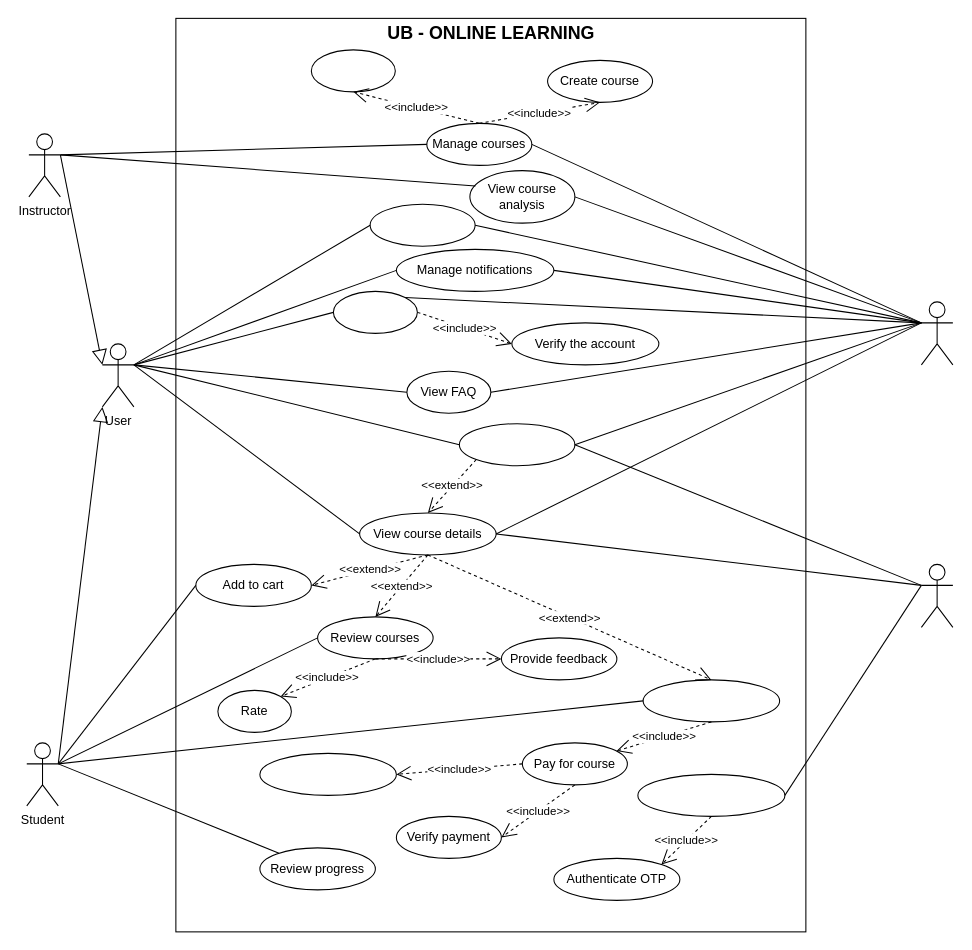
This 972x950 diagram has some shape labels left out. The shapes that lost their labels are listed below. From the top down, each one's box as (x1, y1, x2, y2) in pixels, then its label:
(310, 49, 395, 92): Edit course
(369, 203, 475, 246): Manage profile
(332, 290, 417, 333): Login
(920, 301, 953, 365): Admin
(458, 423, 575, 466): Search courses
(920, 563, 953, 627): Guest
(642, 679, 780, 722): Enrolll the course
(259, 752, 396, 795): Apply discount code
(637, 773, 785, 816): Register an account
